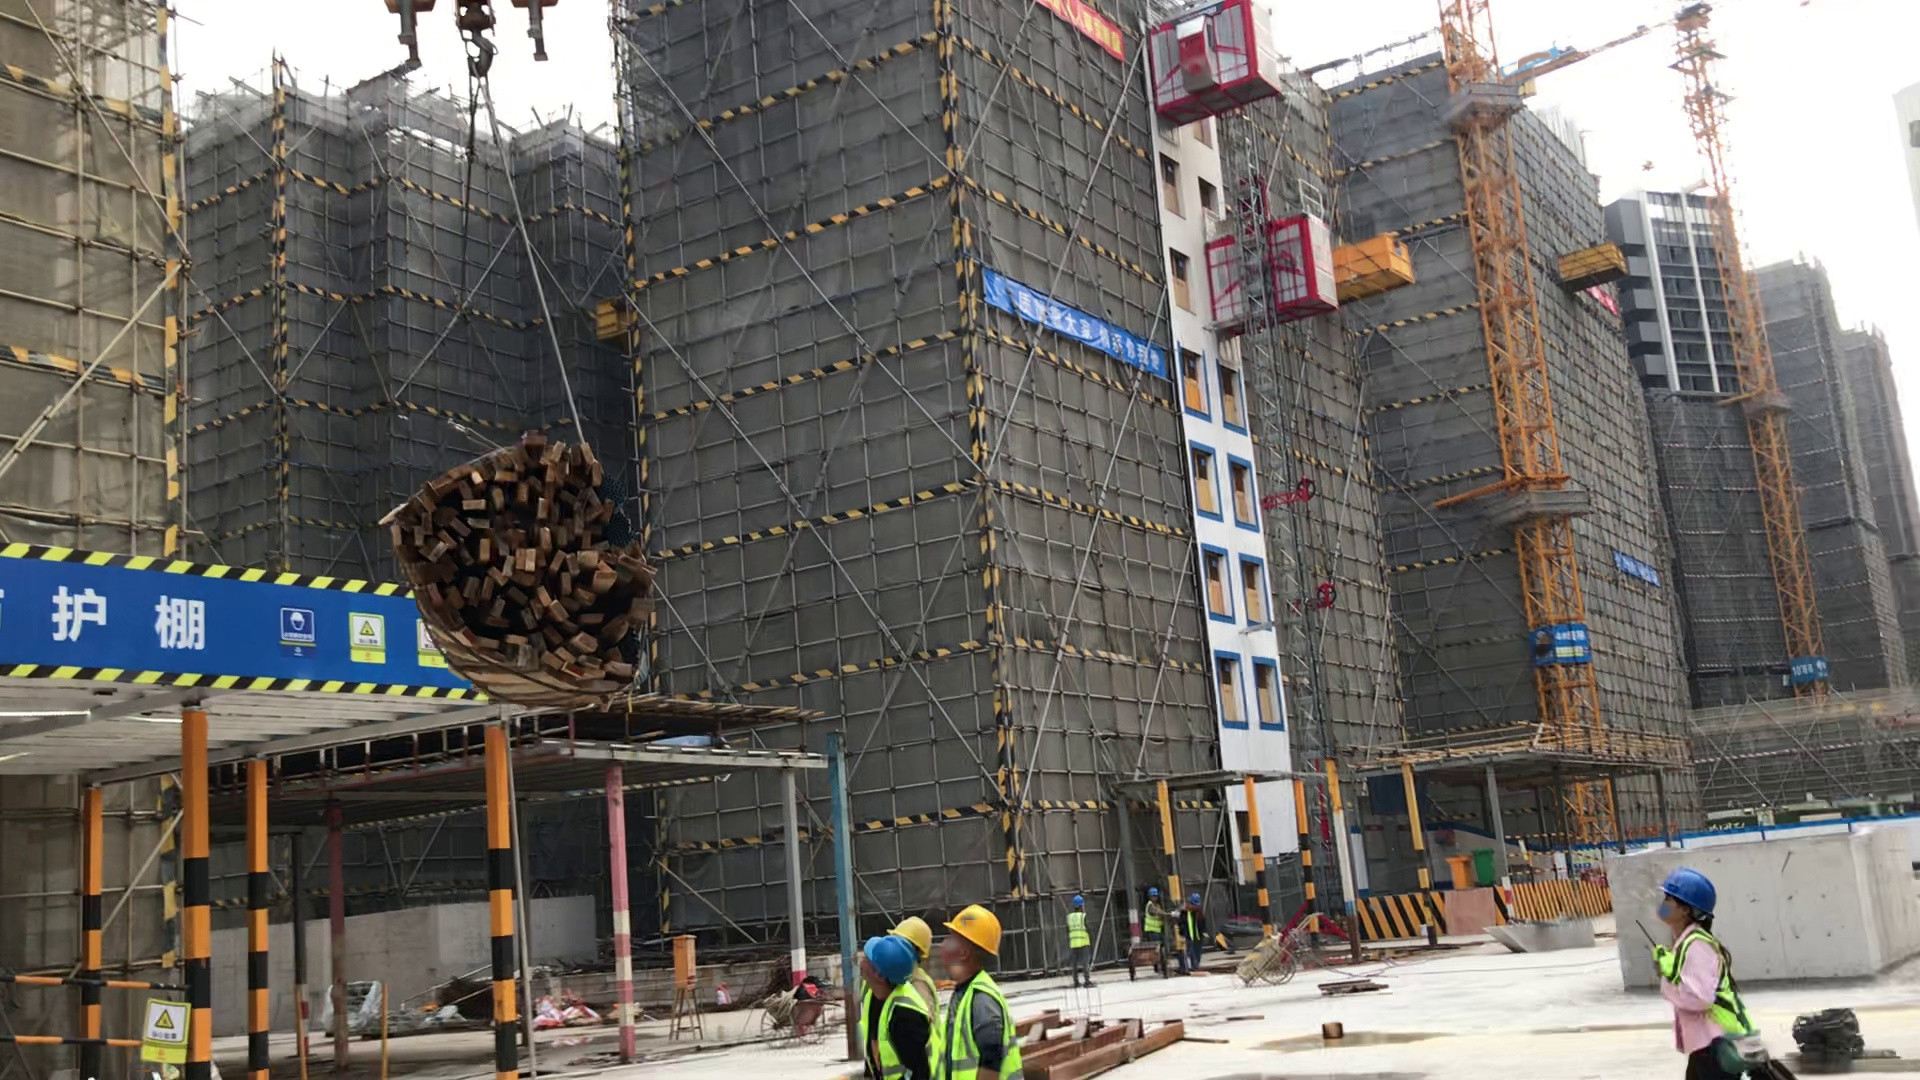ebox: (657, 927, 711, 996)
fence: (1, 949, 207, 1080), (1498, 827, 1613, 889)
handcart: (1227, 907, 1327, 995), (753, 966, 840, 1050), (1121, 941, 1185, 984)
helmet: (1651, 858, 1737, 930), (939, 898, 1005, 962), (859, 931, 916, 991), (882, 911, 937, 965), (1186, 885, 1208, 910), (1064, 891, 1089, 910), (1141, 885, 1164, 903)
hook: (354, 4, 592, 100)
hopper: (1472, 893, 1600, 973)
person: (1629, 860, 1774, 1080), (935, 901, 1042, 1080), (847, 927, 937, 1080), (878, 897, 952, 1033), (1051, 883, 1112, 991), (1178, 889, 1233, 992), (1135, 881, 1175, 969)
slogan: (3, 511, 527, 750), (969, 251, 1179, 400), (126, 989, 198, 1080), (1029, 3, 1131, 62), (1523, 614, 1598, 680), (1599, 542, 1679, 601), (1585, 278, 1648, 327), (1776, 645, 1838, 693)
vest: (935, 969, 1024, 1064), (854, 979, 932, 1061), (905, 962, 943, 1010), (1062, 908, 1097, 958), (1143, 898, 1170, 940)
wood: (376, 415, 684, 739)
